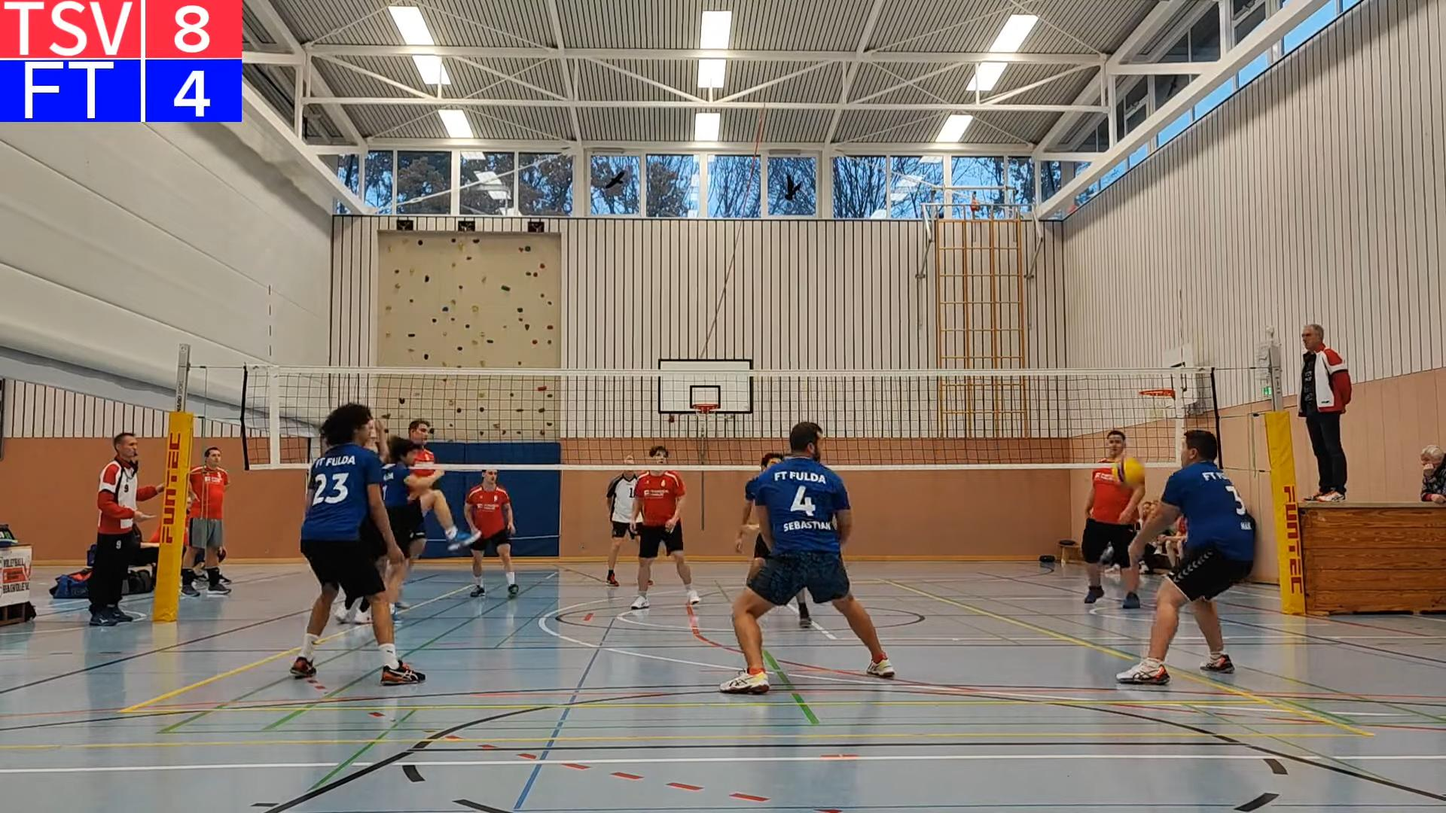difesa: (1115, 428, 1258, 687)
